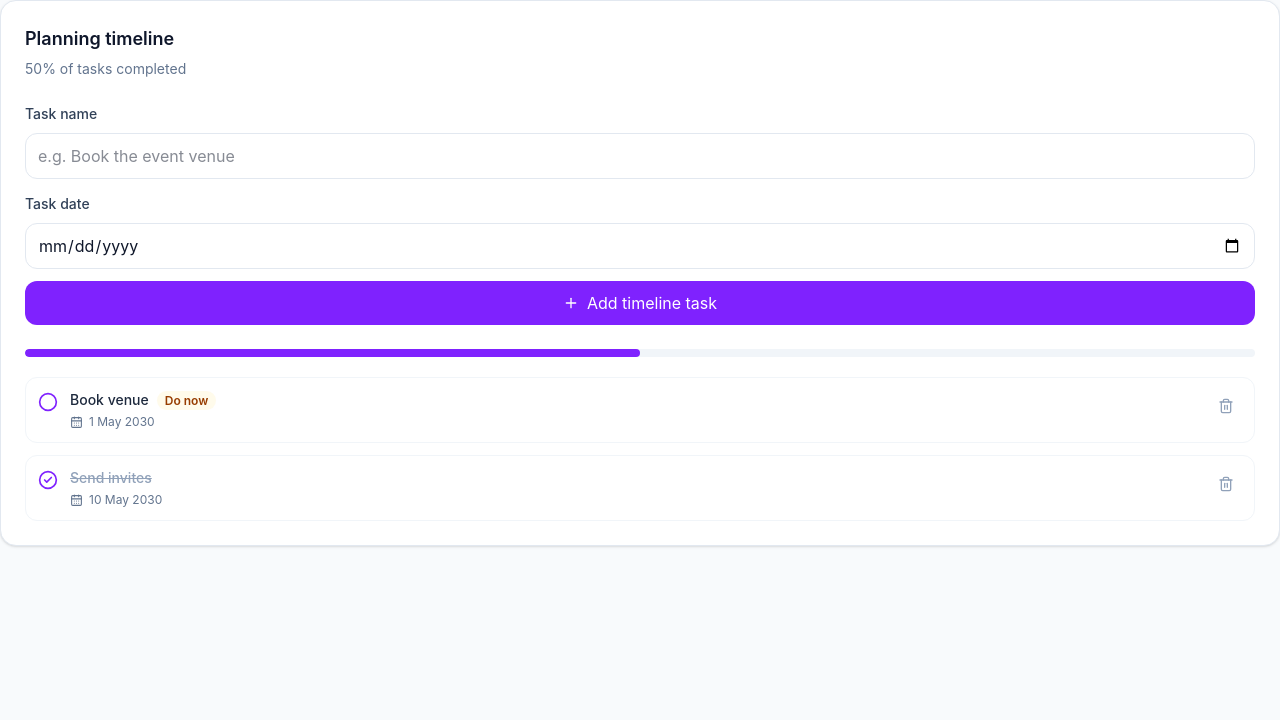
Test case: TimelinePanel › validates the name, its length and the date
Click the button "Add timeline task". click: (640, 303)
box: [25,281,1255,325]
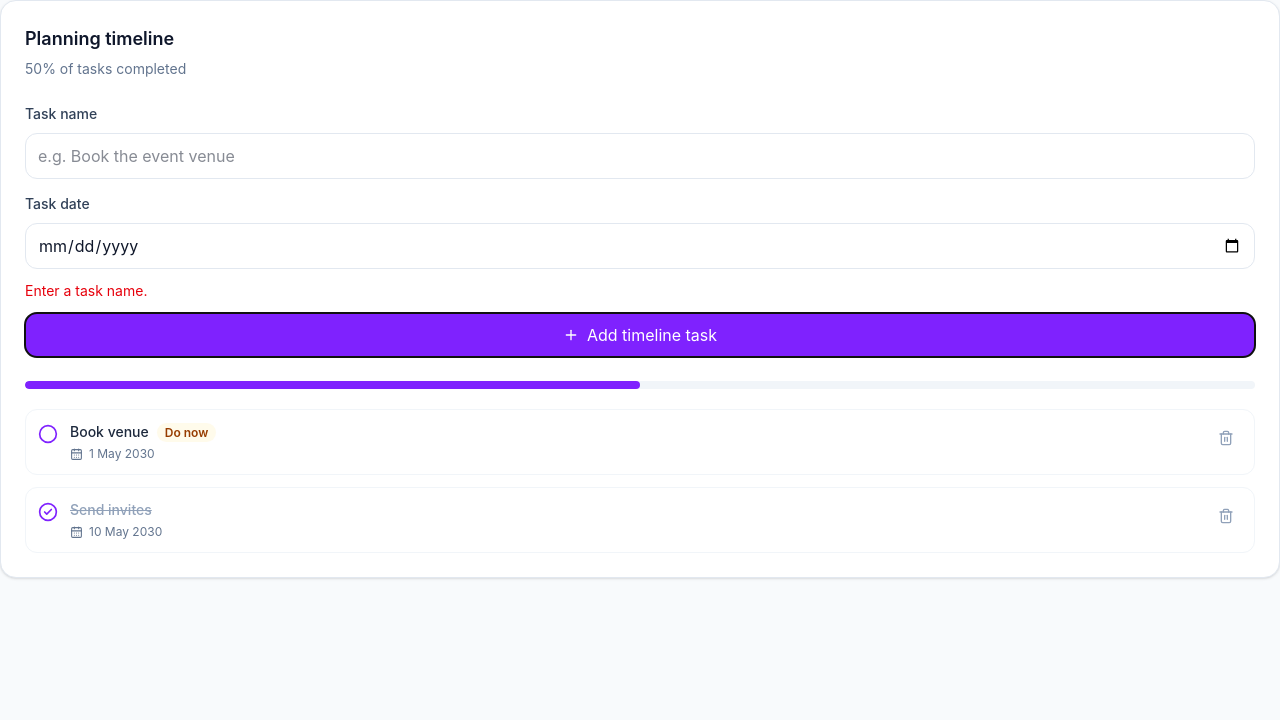
Check: the message shows "Enter a task name", box [25,282,147,299]
Type "Buy balloons" into the field labelled "Task name". click: (640, 156)
box: [25,133,1255,179]
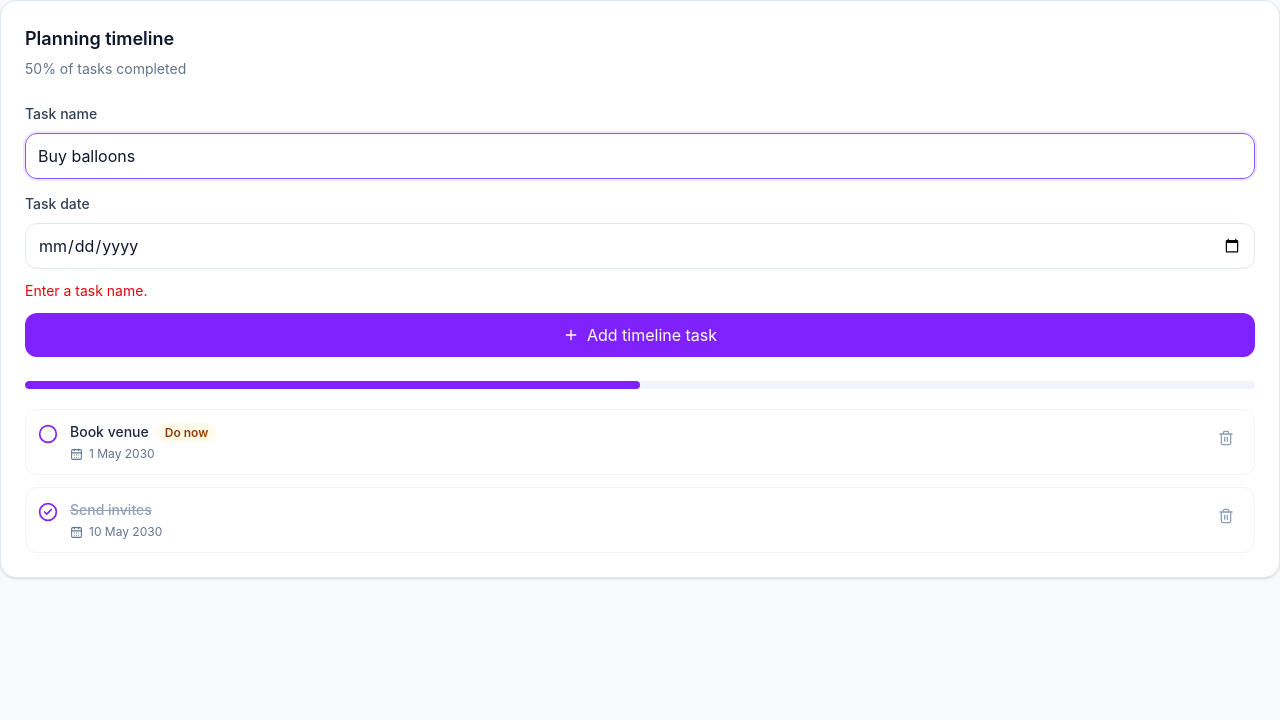
Click the button "Add timeline task". click: (640, 335)
box: [25,313,1255,357]
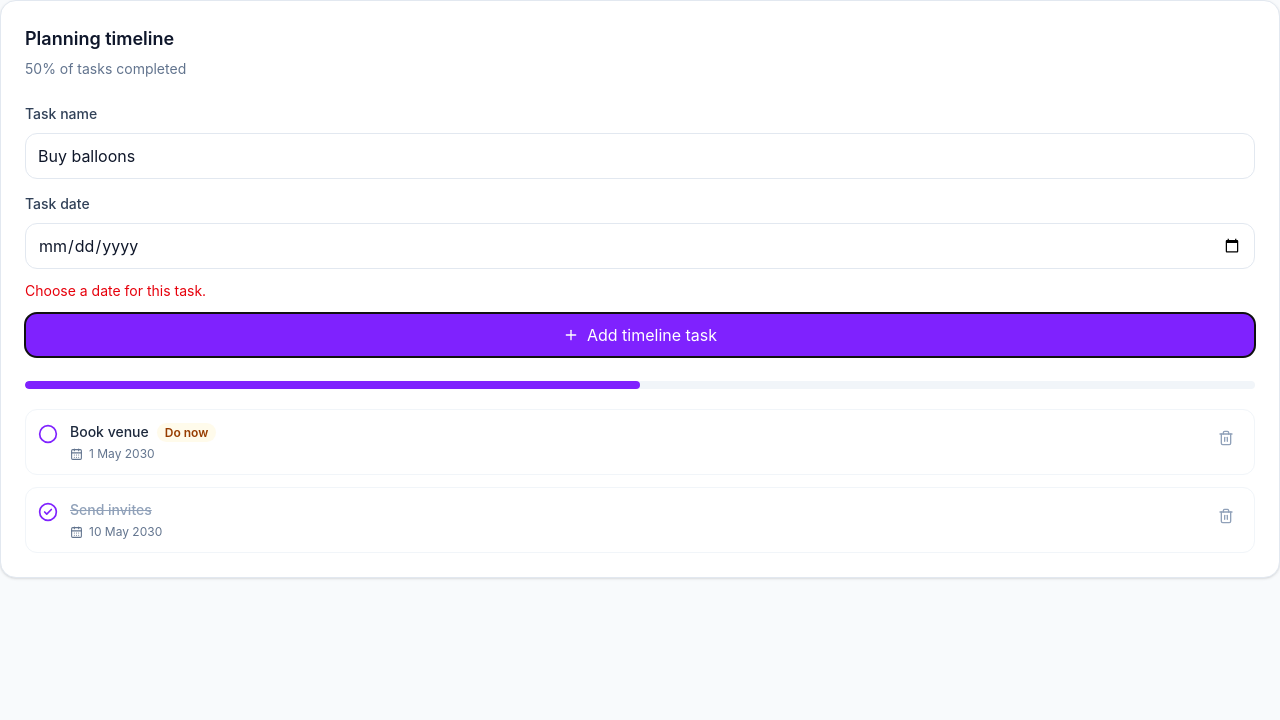
Check: the message shows "Choose a date", box [25,282,206,299]
